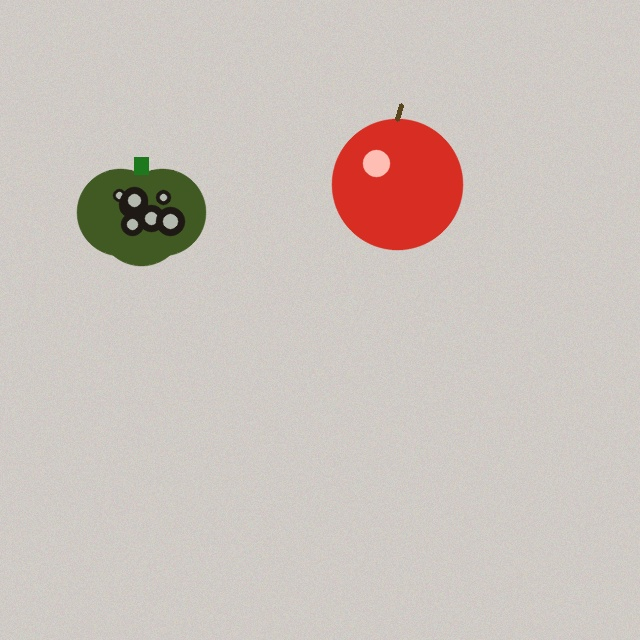Fresh apple: (332, 105, 462, 249)
Rotten bell pepper: (77, 157, 205, 265)
